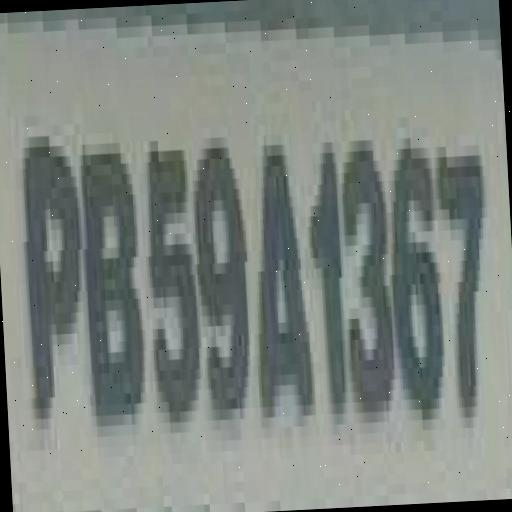number plate: (1, 7, 512, 512)
